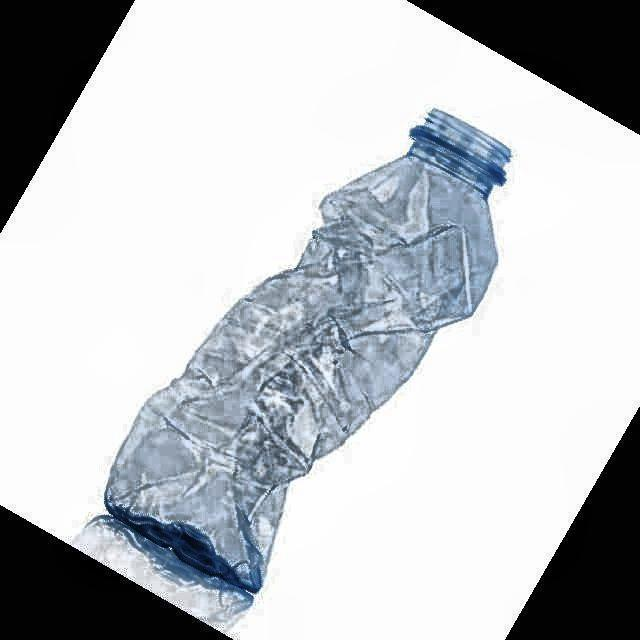plastic: (105, 110, 509, 596)
